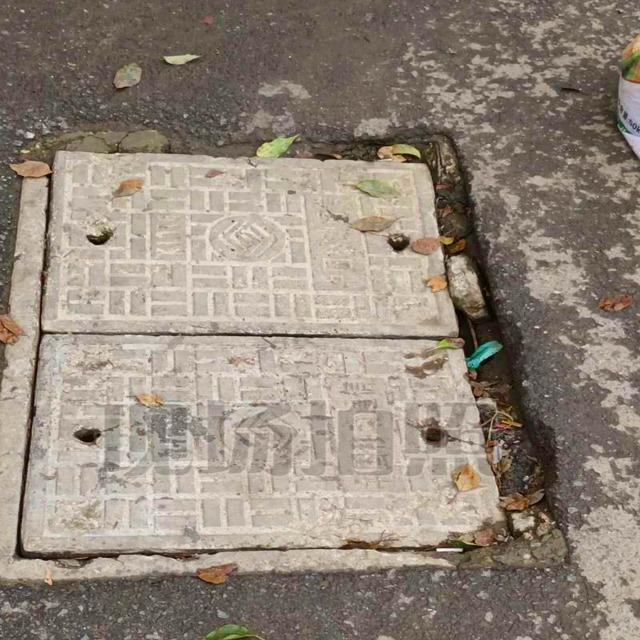circle: (0, 130, 573, 579)
